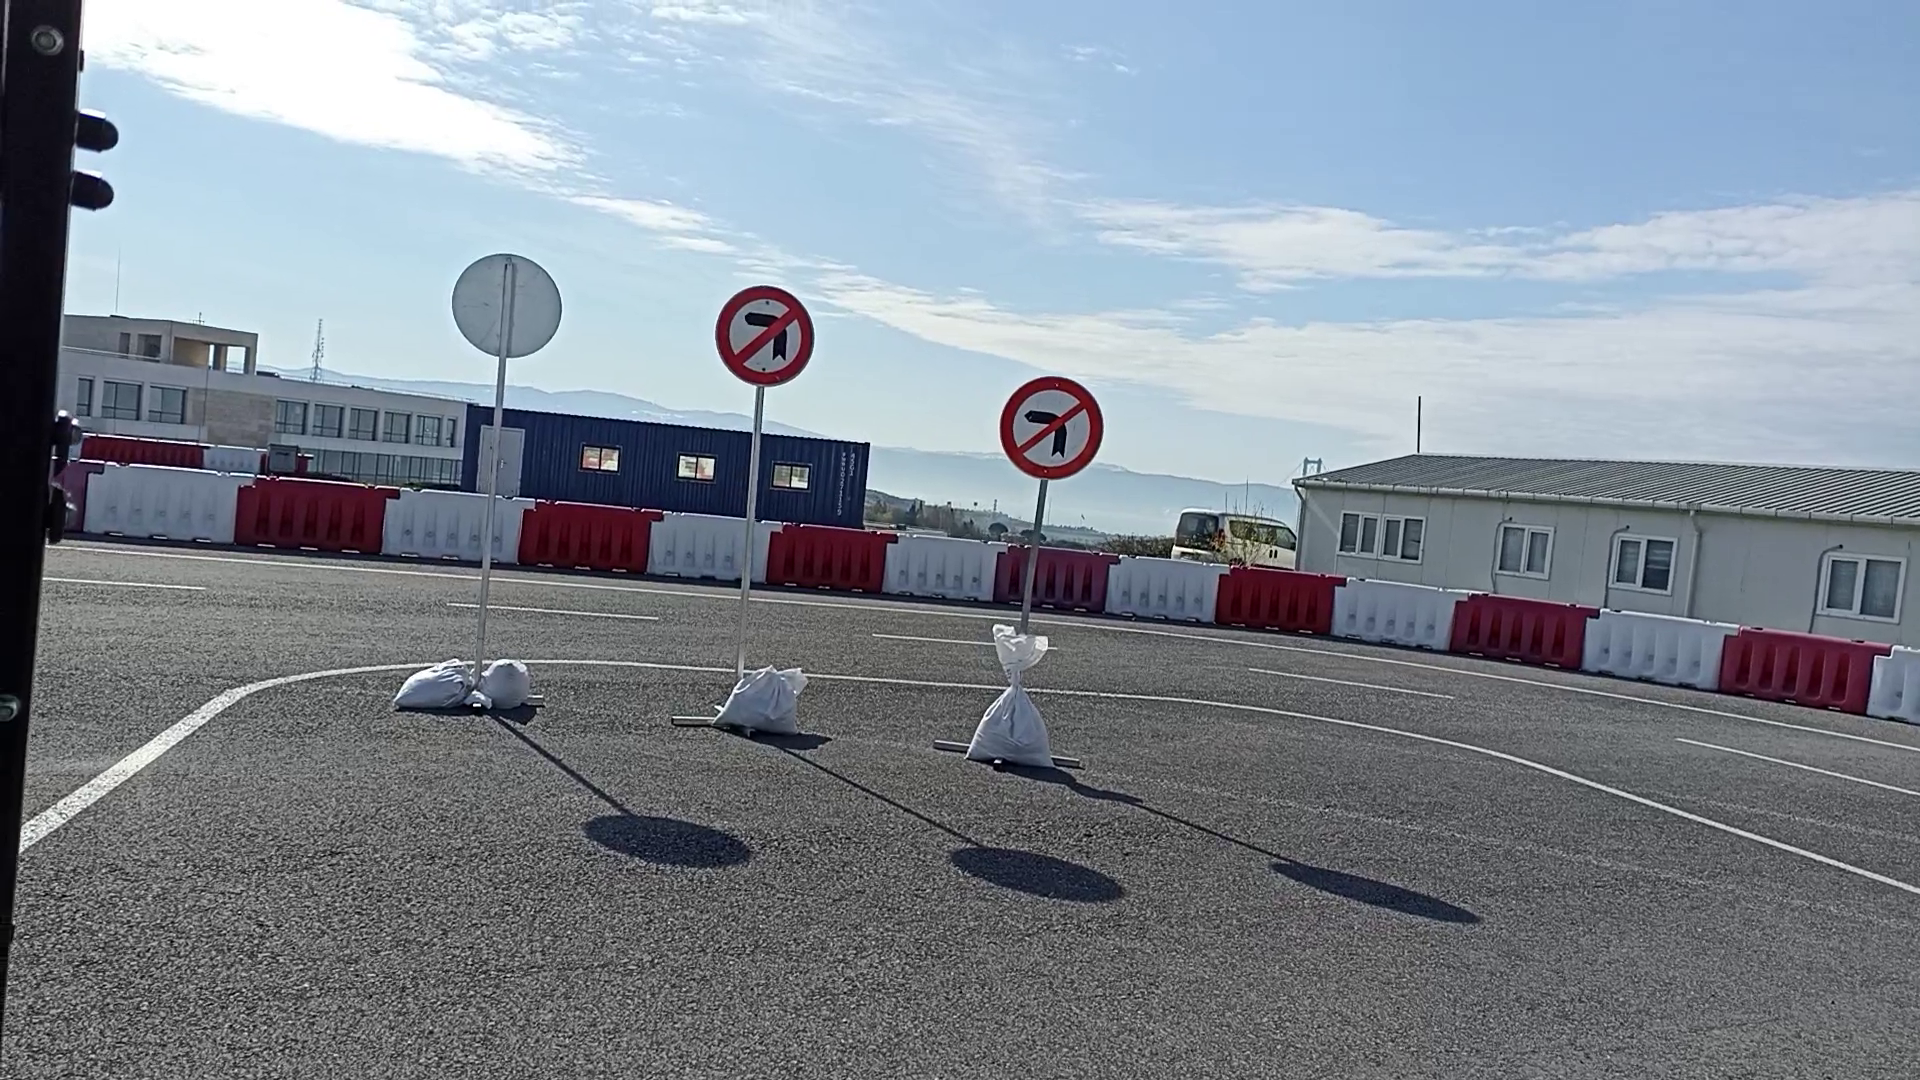noleft: (998, 376, 1106, 483), (712, 284, 816, 389)
